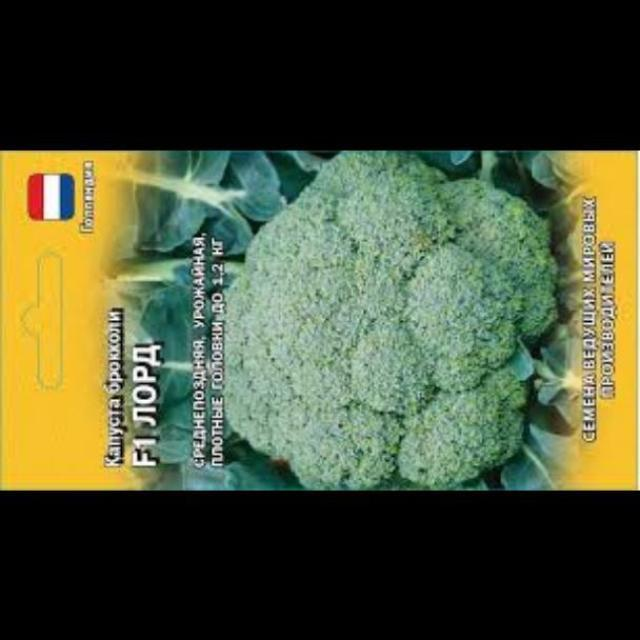Broccoli: (217, 151, 566, 491)
